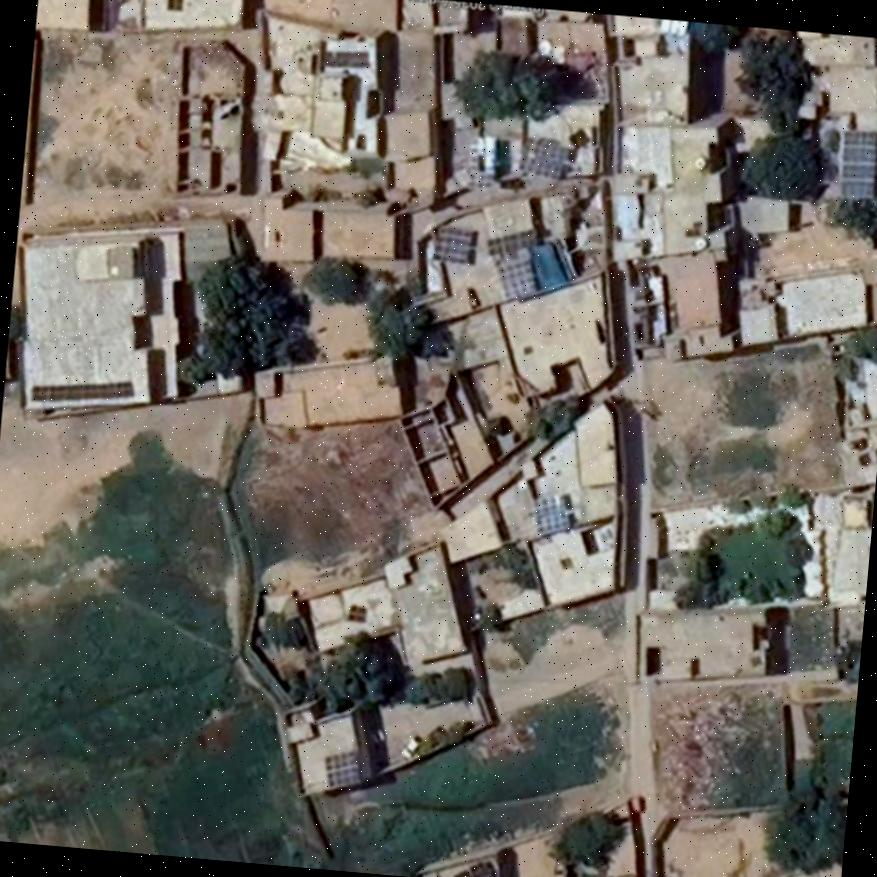Solarpanel: (837, 132, 877, 195), (523, 139, 567, 178), (30, 385, 133, 401), (434, 225, 470, 263), (322, 750, 357, 787), (499, 261, 535, 296), (534, 498, 568, 534), (453, 860, 492, 877)
